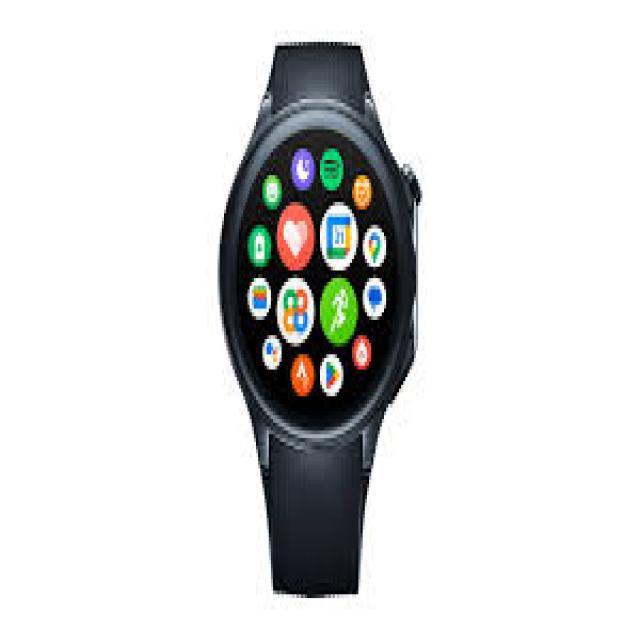objects: (218, 42, 418, 598)
